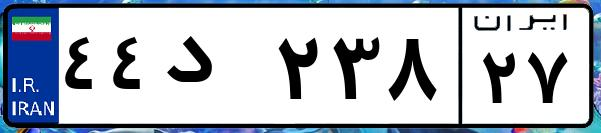2: (270, 28, 330, 110), (475, 38, 525, 113)
3: (330, 28, 385, 110)
4: (57, 26, 110, 100), (110, 28, 158, 98)
7: (525, 38, 570, 115)
8: (385, 28, 445, 110)
د: (158, 20, 270, 120)
